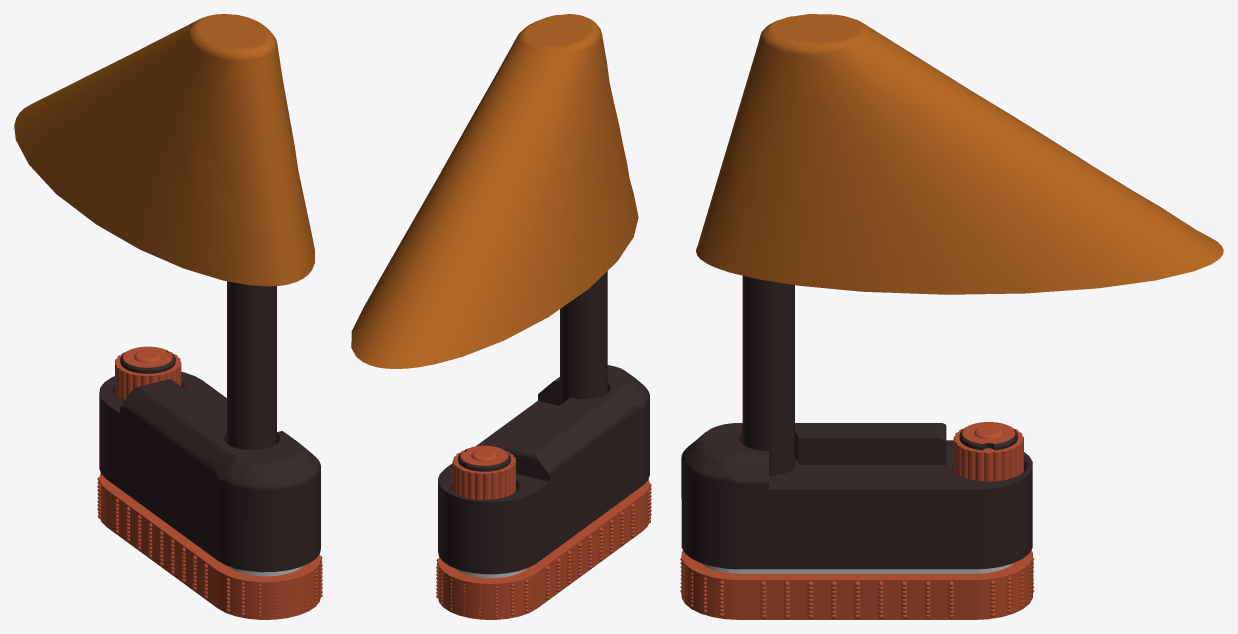
Rendered from lampp.glb.
3 views of the same model, side by side, from view 1: azimuth 30°, elevation 25°; view 2: azimuth 150°, elevation 25°; view 3: azimuth 270°, elevation 25° (orthographic). The views are drawn at different scales.
Parts seen in each view (by area): view 1: lampp v5; view 2: lampp v5; view 3: lampp v5.
Part boxes in pixels (box(x1,y1,x2,y2)): lampp v5: box(14, 14, 322, 619); lampp v5: box(351, 14, 651, 619); lampp v5: box(680, 14, 1223, 619).
Size of the model in its own units: 0.0701 by 0.214 by 0.1853.
